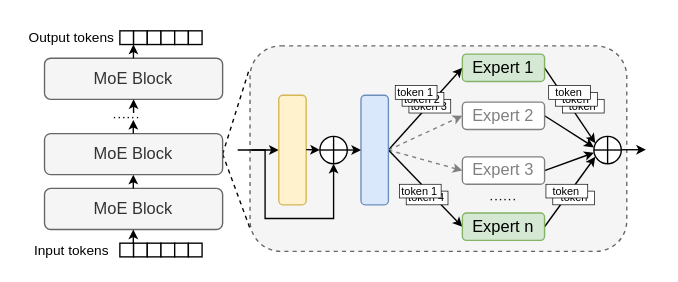
The diagram is 678 pixels wide and 282 high, and some of its shapes have lost their labels. The box of each missing label's shape, as (x1, y1, x2, y2) in pixels:
Attention: (277, 94, 306, 205)
Router: (360, 94, 388, 205)
